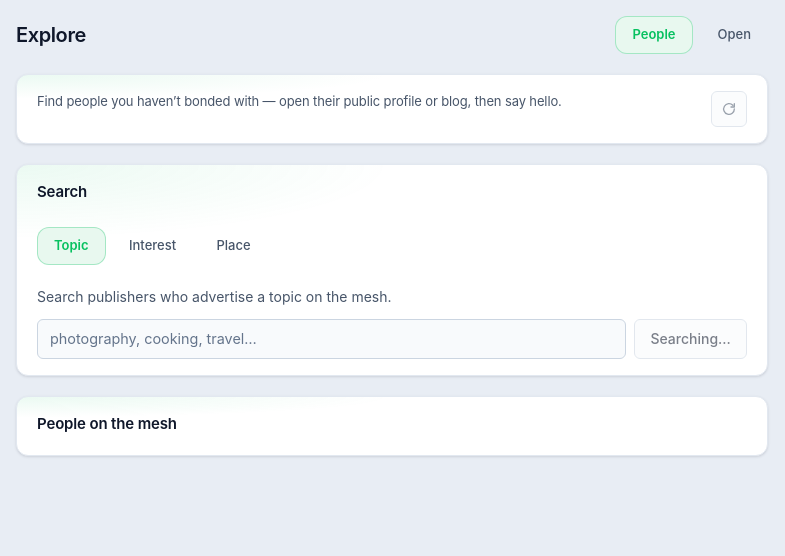
Test: BrowserView › renders peer Blog index with Blog card chrome (not raw markdown)
Click the tab with test id "browser-mode-open" at [734, 35], box top-left (700, 16), bottom-right (768, 54)
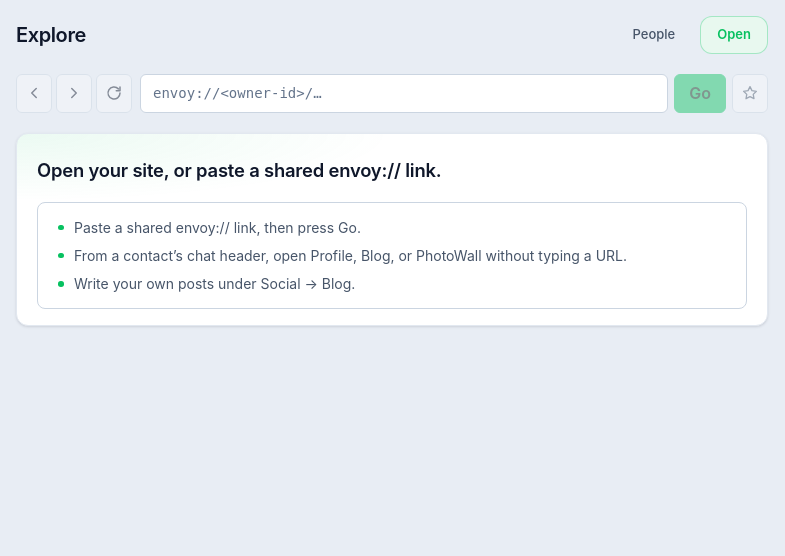
Type "envoy://envoy:owner:abc123/blog/" into the field with test id "browser-address-bar" at [404, 93], box top-left (140, 74), bottom-right (668, 112)
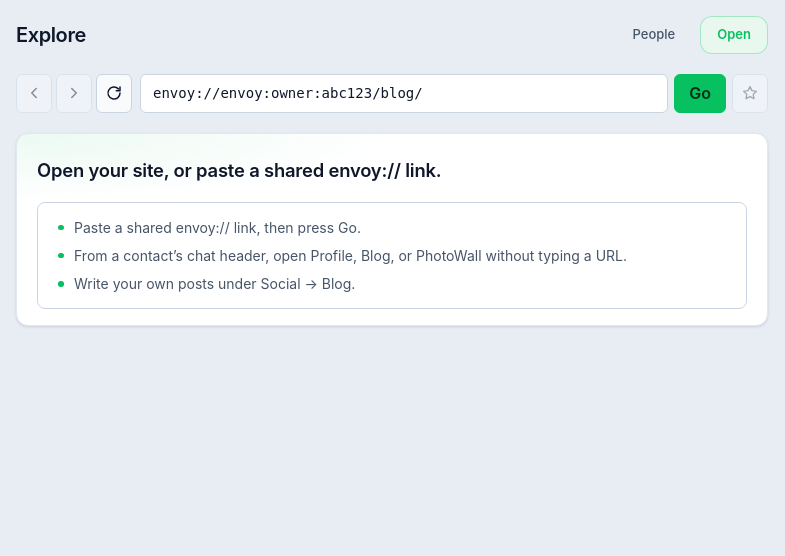
Click the button with test id "browser-go" at [700, 93], box top-left (674, 74), bottom-right (726, 112)
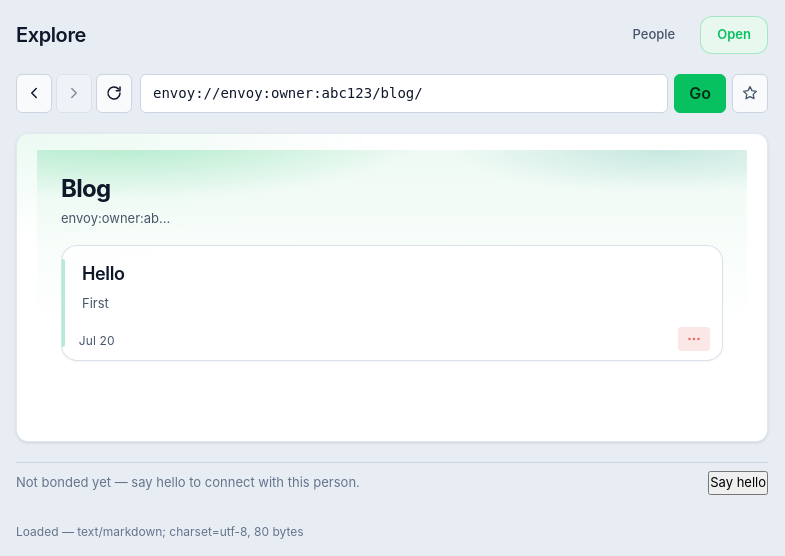
Expected: the element with test id "browser-peer-blog" is shown, top-left (37, 150), bottom-right (747, 425)
Expected: the list item with test id "browser-peer-blog-card" shows "Hello", top-left (62, 246), bottom-right (722, 319)
